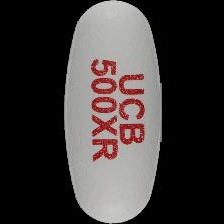50474-598: (0, 0, 224, 224)
